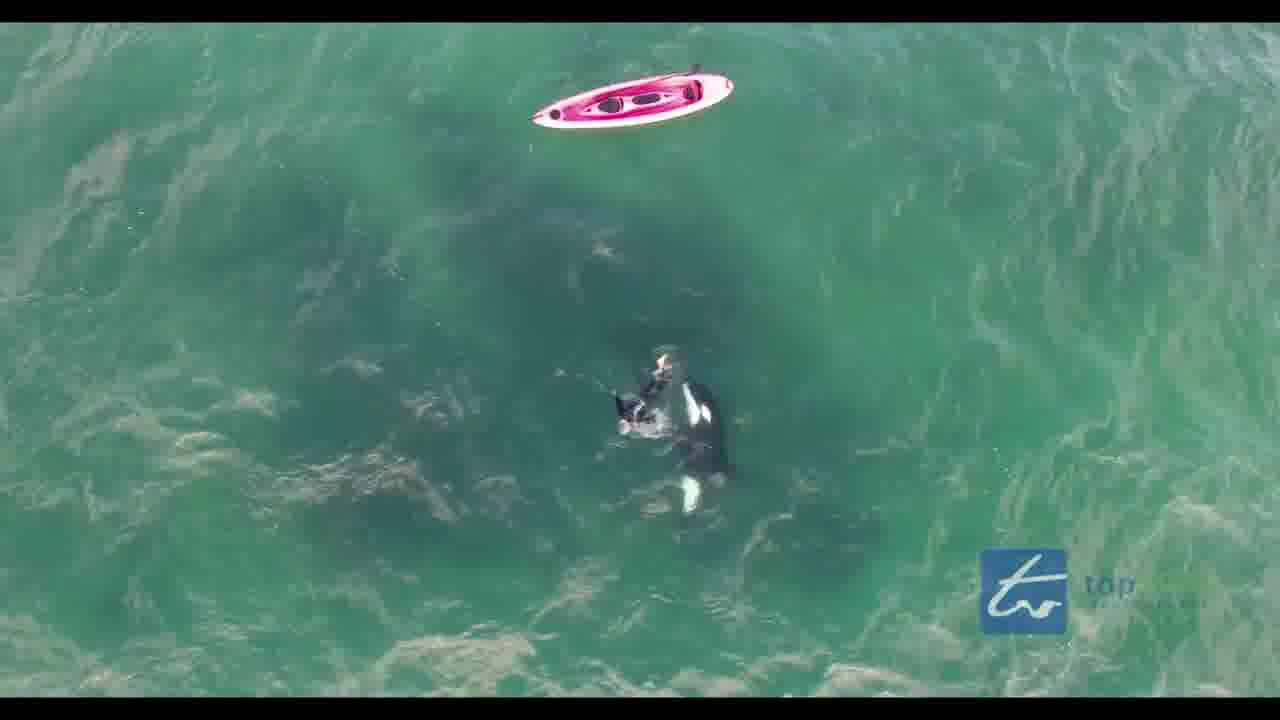swimmer: (597, 391, 665, 440)
